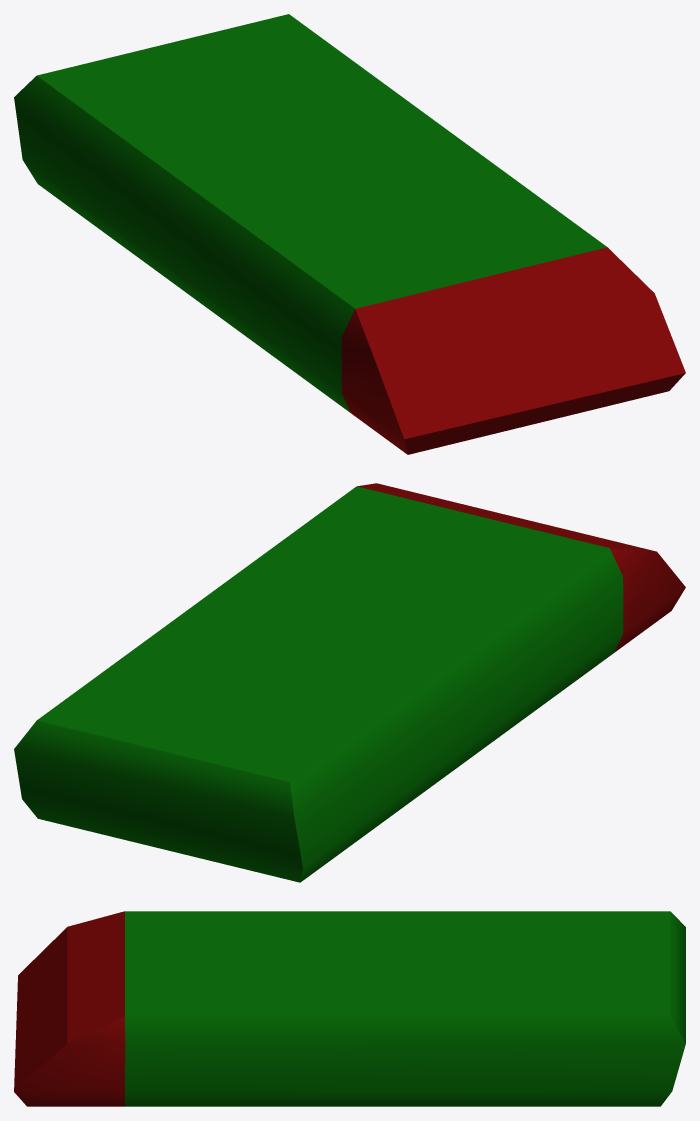
Rendered from Tank.fbx.
3 renders of one model, top to bottom at view 1: azimuth 30°, elevation 25°; view 2: azimuth 150°, elevation 25°; view 3: azimuth 270°, elevation 25°, orthographic. The views are drawn at different scales.
Parts seen in each view (by area): view 1: Tank; view 2: Tank; view 3: Tank.
Boxes of the visible parts, left/top/right/bottom form: Tank: left=14, top=14, right=685, bottom=454; Tank: left=14, top=483, right=685, bottom=882; Tank: left=14, top=911, right=685, bottom=1106.
Size of the model in its own units: 1.25 by 0.4413 by 3.04.
